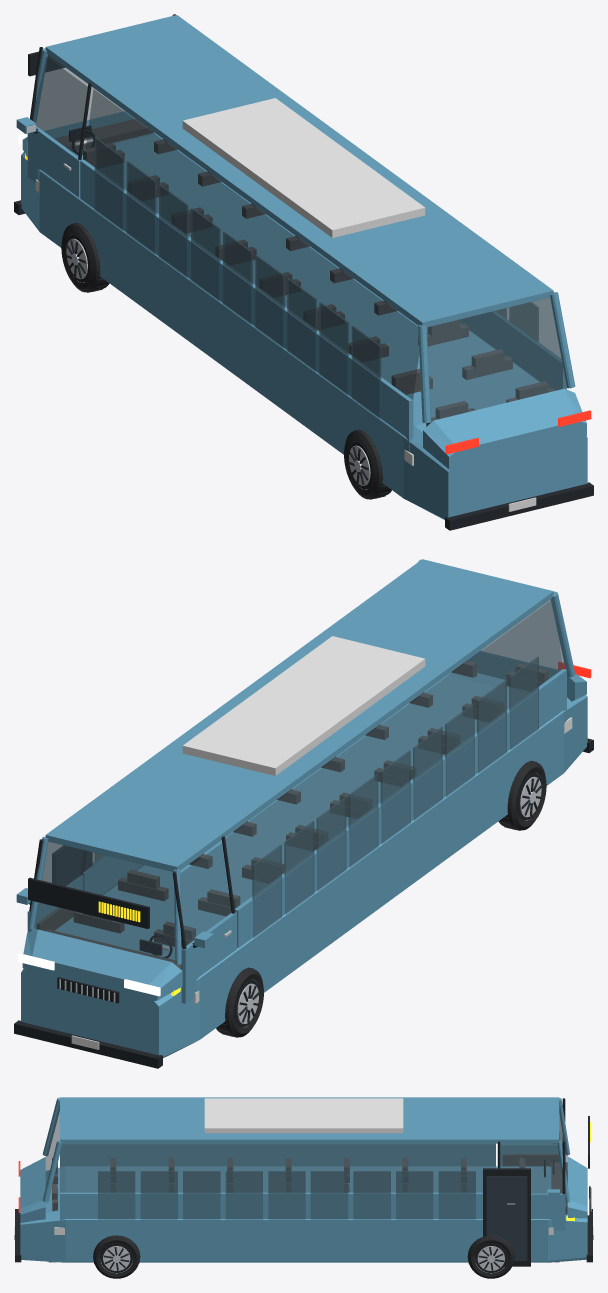
File: bus_city.glb
3 renders of one model, top to bottom at view 1: azimuth 30°, elevation 25°; view 2: azimuth 150°, elevation 25°; view 3: azimuth 270°, elevation 25°, orthographic. The views are drawn at different scales.
Visible parts, largest first — view 1: Body, Door_FL, Wheel_FL, Wheel_RL; view 2: Body, Door_FL, Door_FR, Wheel_RL, Wheel_FL, Door_Bus; view 3: Body, Door_Bus, Door_FR, Wheel_RR, Wheel_FR, Door_FL.
Part boxes in pixels (left/top/right/bottom): Body: left=14, top=15, right=593, bottom=530; Door_FL: left=16, top=47, right=91, bottom=197; Wheel_FL: left=61, top=222, right=109, bottom=292; Wheel_RL: left=344, top=429, right=391, bottom=499; Body: left=14, top=559, right=593, bottom=1068; Door_FL: left=172, top=836, right=236, bottom=1003; Door_FR: left=16, top=839, right=84, bottom=932; Wheel_RL: left=498, top=760, right=546, bottom=830; Wheel_FL: left=216, top=967, right=263, bottom=1037; Door_Bus: left=52, top=845, right=92, bottom=885; Body: left=14, top=1097, right=593, bottom=1262; Door_Bus: left=483, top=1168, right=530, bottom=1266; Door_FR: left=498, top=1141, right=565, bottom=1230; Wheel_RR: left=93, top=1235, right=140, bottom=1278; Wheel_FR: left=467, top=1235, right=514, bottom=1278; Door_FL: left=497, top=1098, right=565, bottom=1166.
Size of what is drawn, in the model's own units: 3 by 3.2 by 12.06.
